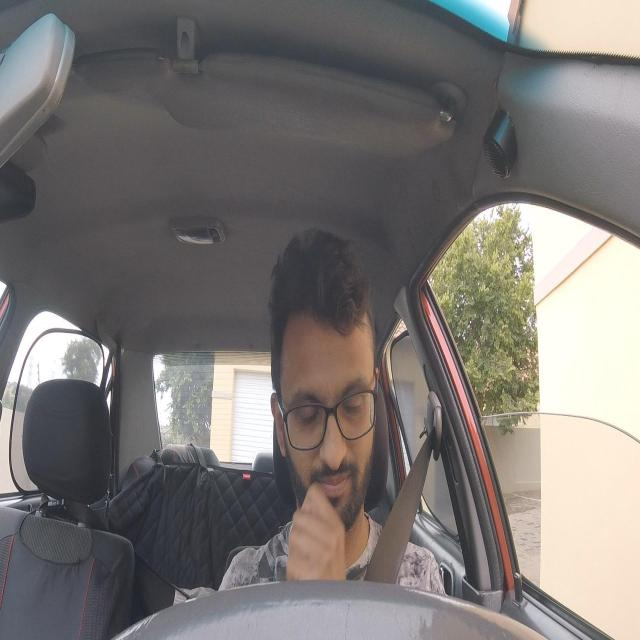close: (338, 373, 371, 418), (292, 387, 322, 429)
